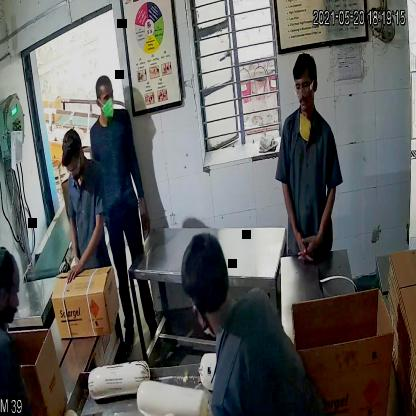goggles: (291, 82, 318, 96)
no_goggles: (94, 91, 116, 105)
